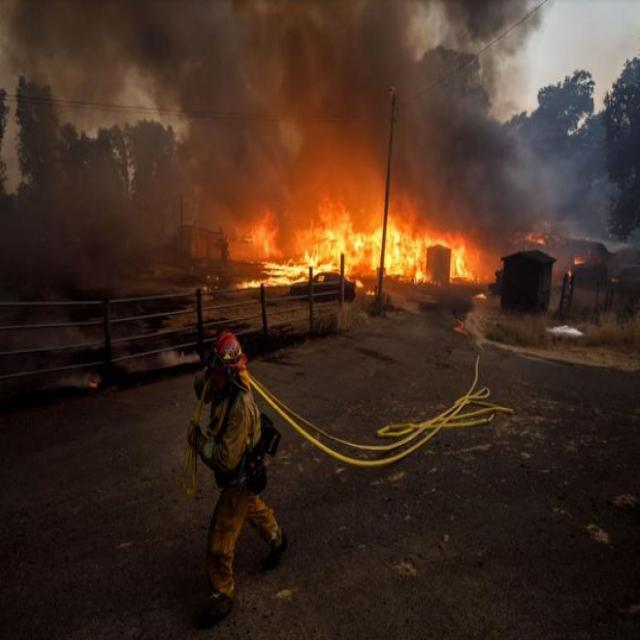Fire: (222, 177, 502, 307)
